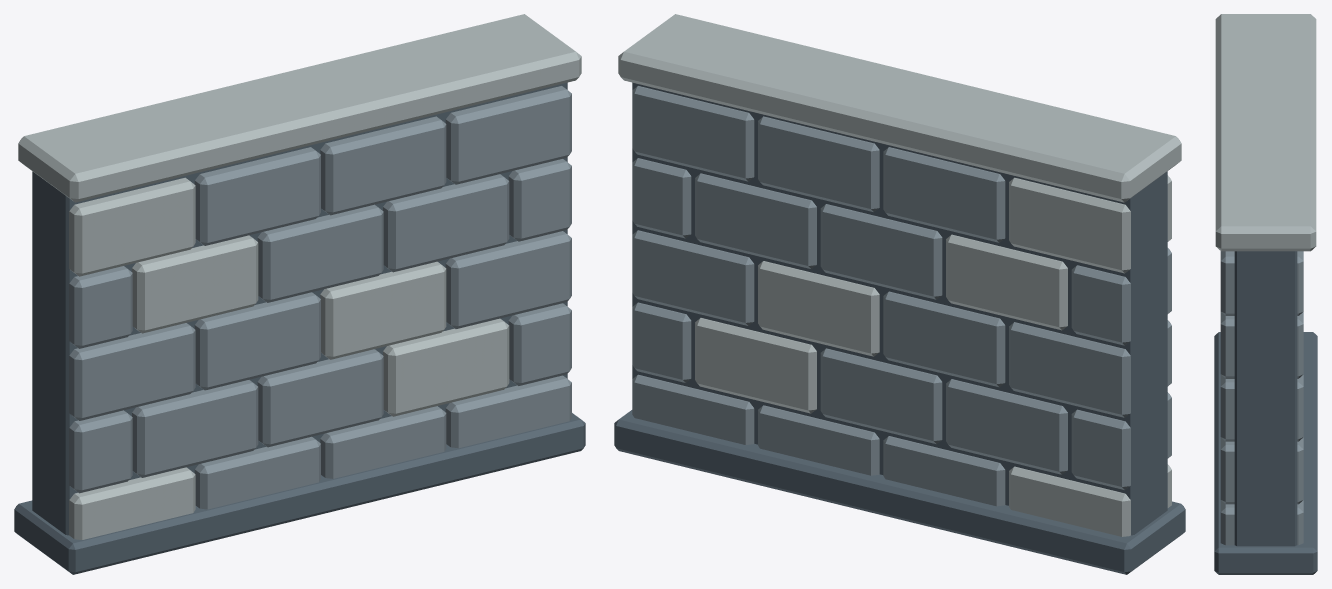
The model's file is crypt_wall_4m.glb.
3 views of the same model, side by side, from view 1: azimuth 30°, elevation 25°; view 2: azimuth 150°, elevation 25°; view 3: azimuth 270°, elevation 25° (orthographic). The views are drawn at different scales.
Visible parts, largest first — view 1: crypt_wall_4m_Geometry; view 2: crypt_wall_4m_Geometry; view 3: crypt_wall_4m_Geometry.
Boxes of the visible parts, x1,y1,x2,y2 form: crypt_wall_4m_Geometry: [14, 14, 585, 574]; crypt_wall_4m_Geometry: [614, 14, 1185, 574]; crypt_wall_4m_Geometry: [1214, 14, 1317, 574].
Size of the model in its own units: 4.12 by 3.04 by 0.82.
